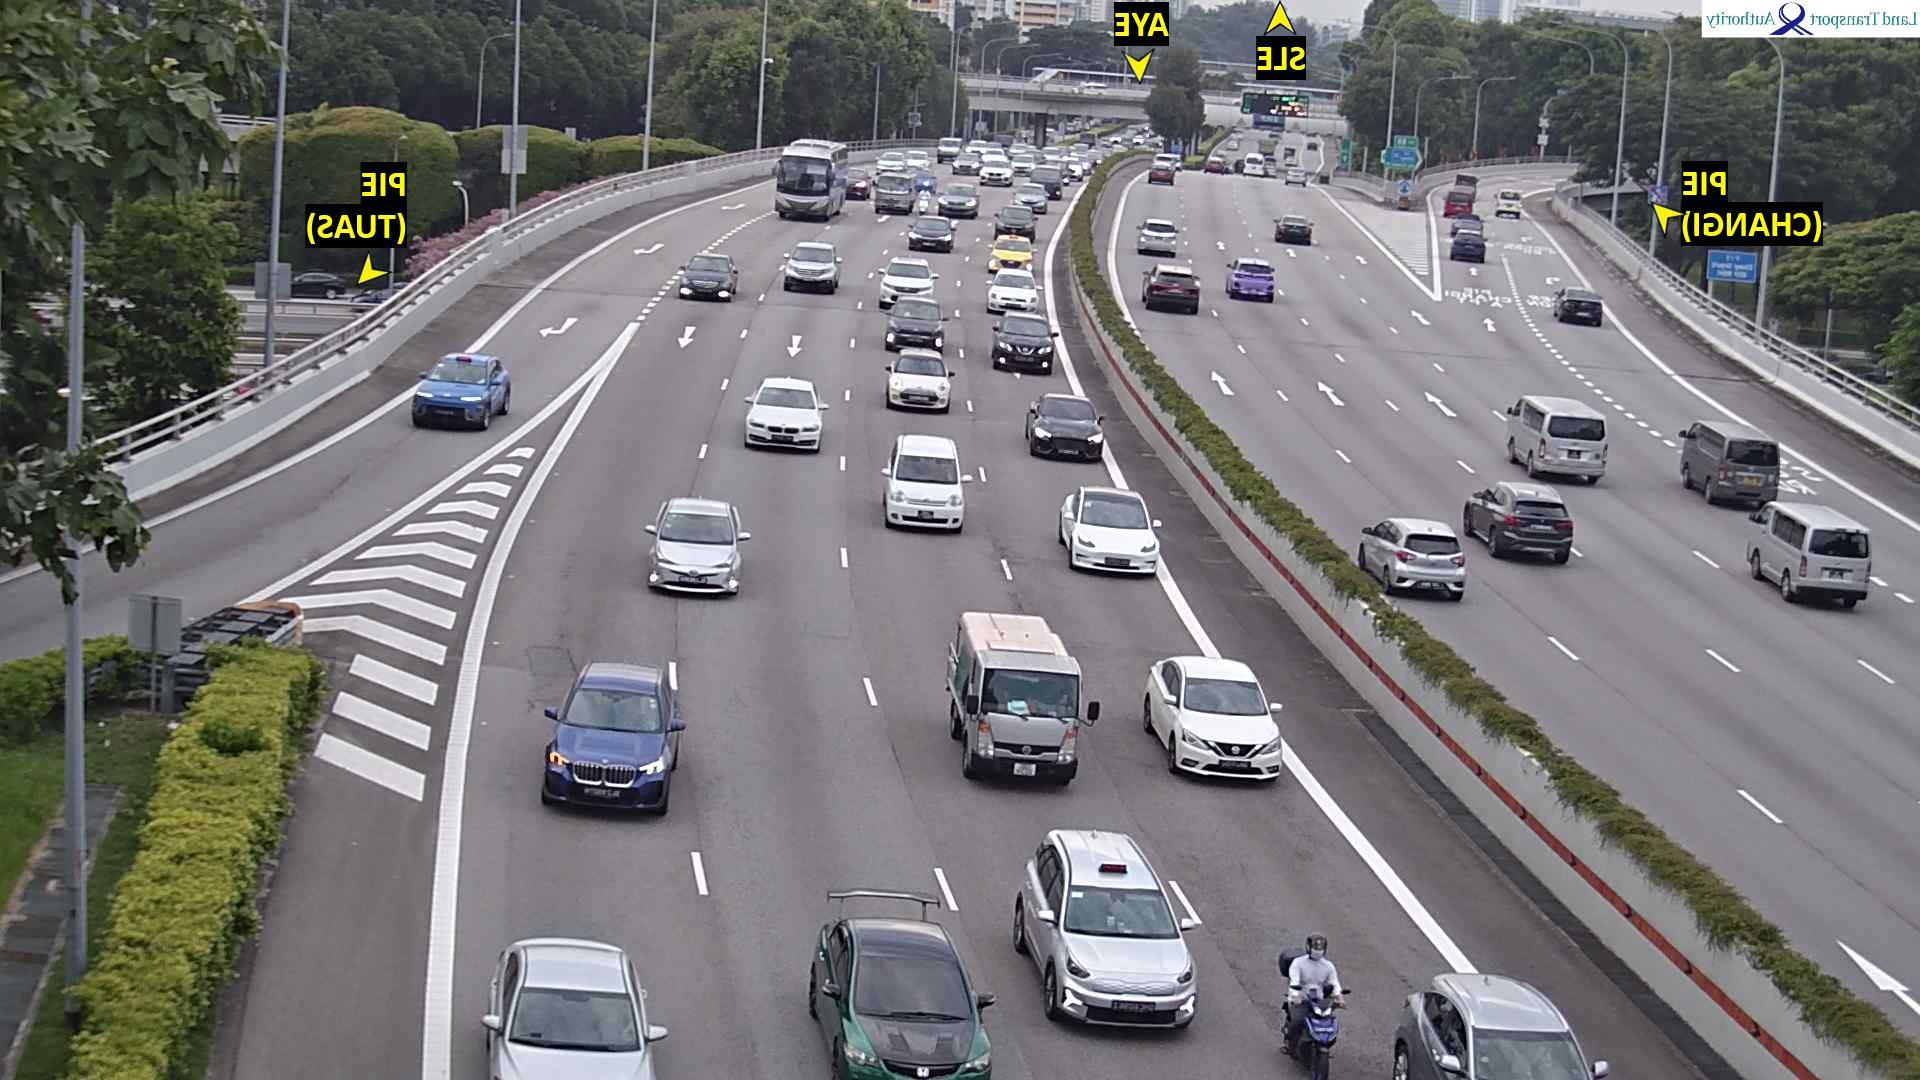cars: (1013, 827, 1203, 1031), (808, 886, 998, 1077), (945, 609, 1102, 785), (483, 936, 670, 1077), (1393, 971, 1610, 1077), (542, 658, 687, 815), (1143, 654, 1284, 783), (1747, 498, 1874, 611), (645, 495, 753, 596), (1059, 483, 1164, 576), (1464, 479, 1576, 564), (1506, 394, 1610, 485), (1358, 516, 1468, 600), (1679, 419, 1782, 509), (881, 433, 972, 531), (411, 351, 512, 430), (744, 375, 829, 452), (1026, 392, 1106, 462), (885, 347, 957, 411), (992, 309, 1058, 375), (884, 294, 949, 352), (1142, 258, 1203, 314), (880, 255, 942, 307), (783, 240, 844, 293), (678, 252, 740, 301), (986, 266, 1043, 313), (1226, 256, 1276, 301), (986, 233, 1035, 274), (1553, 286, 1605, 324), (874, 170, 919, 214), (907, 214, 959, 251), (992, 203, 1039, 243), (938, 179, 981, 218), (291, 270, 347, 298), (1138, 218, 1179, 255), (1007, 182, 1051, 216), (1026, 166, 1064, 202), (978, 152, 1015, 186), (1275, 214, 1315, 244), (1451, 231, 1487, 262), (1448, 171, 1481, 204), (1150, 152, 1182, 185), (1451, 211, 1486, 240), (1443, 187, 1476, 218), (845, 165, 873, 199), (949, 150, 984, 178), (934, 136, 965, 165), (1006, 152, 1038, 179), (1495, 189, 1524, 218), (872, 152, 907, 174), (1043, 160, 1069, 186), (1058, 156, 1084, 182), (1244, 152, 1273, 175), (1216, 154, 1247, 175), (913, 170, 939, 195), (903, 150, 930, 174), (1007, 142, 1039, 160), (1203, 156, 1226, 177), (963, 138, 988, 158), (1284, 167, 1309, 186), (1036, 145, 1062, 164), (984, 140, 1004, 154), (1224, 137, 1241, 152), (1283, 153, 1299, 166), (1282, 146, 1298, 160), (1304, 140, 1319, 152)
motorcycle: (1282, 982, 1353, 1079), (914, 186, 932, 216)
trucks: (774, 138, 851, 220), (1253, 138, 1278, 158), (1076, 131, 1098, 150)
